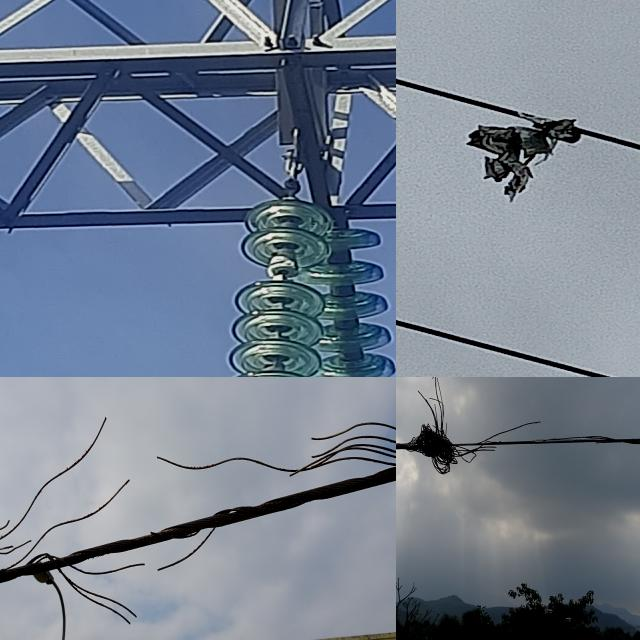植被遮挡: (453, 109, 597, 206)
正常绝缘子: (221, 197, 337, 377), (308, 215, 396, 377)
电缆破损: (0, 408, 396, 634), (404, 395, 640, 477)
绝缘子破损: (264, 258, 301, 279)
